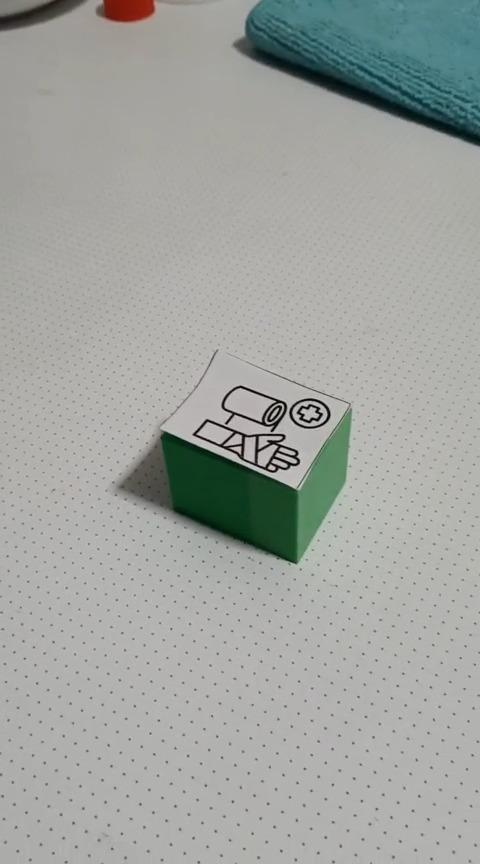Bandages: (158, 347, 352, 564), (243, 0, 479, 144)
